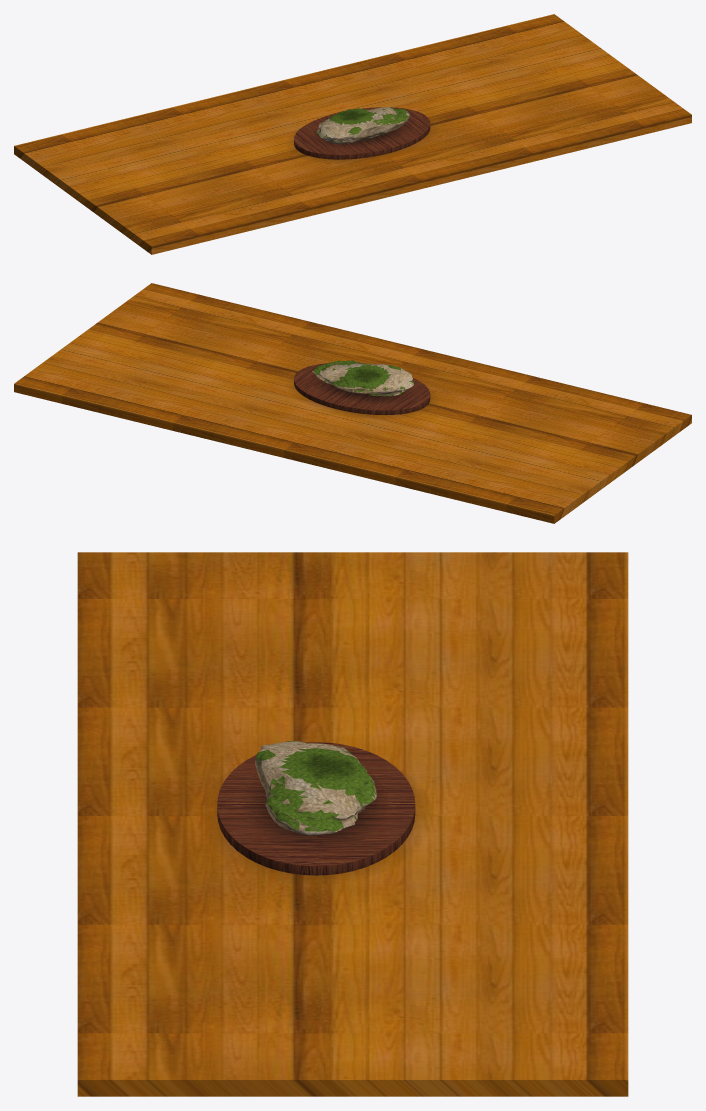
The model's file is bonsai-base.glb.
3 views of the same model, one above another, from view 1: azimuth 30°, elevation 25°; view 2: azimuth 150°, elevation 25°; view 3: azimuth 270°, elevation 25° (orthographic). The views are drawn at different scales.
Visible parts, largest first — view 1: bench, board, rock, moss, contact-shadow; view 2: bench, board, rock, moss, contact-shadow; view 3: bench, board, moss, rock, contact-shadow.
Part boxes in pixels (x1=…): bench: x1=14, y1=14, x2=691, y2=254; board: x1=294, y1=107, x2=430, y2=159; rock: x1=316, y1=107, x2=409, y2=144; moss: x1=316, y1=107, x2=409, y2=137; contact-shadow: x1=317, y1=123, x2=420, y2=160; bench: x1=14, y1=283, x2=691, y2=523; board: x1=294, y1=363, x2=430, y2=414; rock: x1=312, y1=361, x2=413, y2=396; moss: x1=313, y1=360, x2=413, y2=396; contact-shadow: x1=304, y1=379, x2=406, y2=415; bench: x1=77, y1=552, x2=628, y2=1096; board: x1=217, y1=742, x2=415, y2=875; moss: x1=256, y1=741, x2=376, y2=831; rock: x1=255, y1=741, x2=376, y2=835; contact-shadow: x1=216, y1=785, x2=416, y2=868.
Bounding box in the file's own units: 3.4 × 0.1868 × 1.5.
5 materials, 5 textured.
